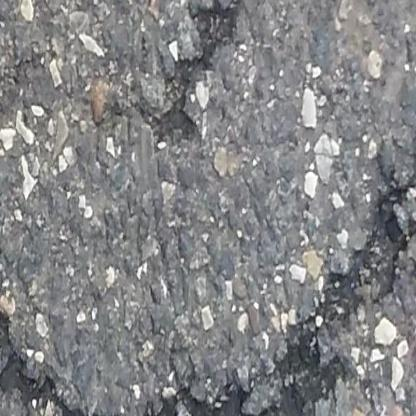Cracks: (123, 173, 416, 416), (135, 0, 310, 159), (0, 295, 122, 416)
